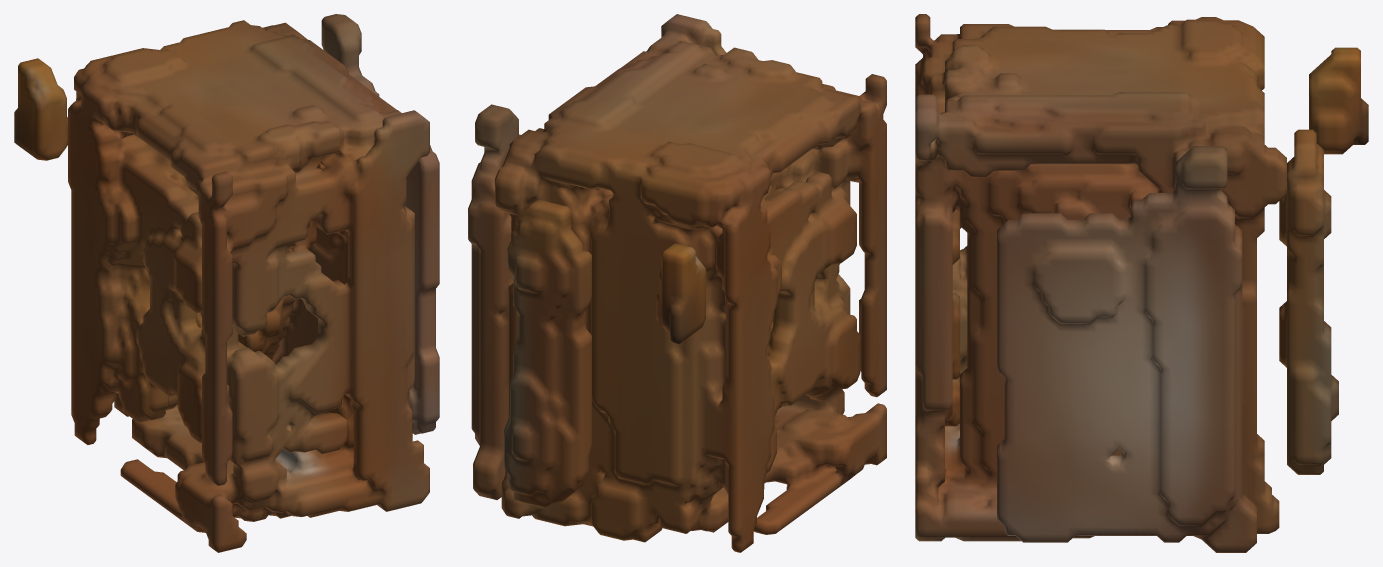
File: This wooden office desk has a bare back, a small r.glb
3 renders of one model, left to right at view 1: azimuth 30°, elevation 25°; view 2: azimuth 150°, elevation 25°; view 3: azimuth 270°, elevation 25°, orthographic. The views are drawn at different scales.
Visible parts, largest first — view 1: This wooden office desk has a bare back, a small r; view 2: This wooden office desk has a bare back, a small r; view 3: This wooden office desk has a bare back, a small r.
Part boxes in pixels (x1=…): This wooden office desk has a bare back, a small r: x1=14, y1=14, x2=439, y2=552; This wooden office desk has a bare back, a small r: x1=468, y1=14, x2=886, y2=552; This wooden office desk has a bare back, a small r: x1=915, y1=14, x2=1368, y2=552.
Size of the model in its own units: 46 by 64 by 61.
